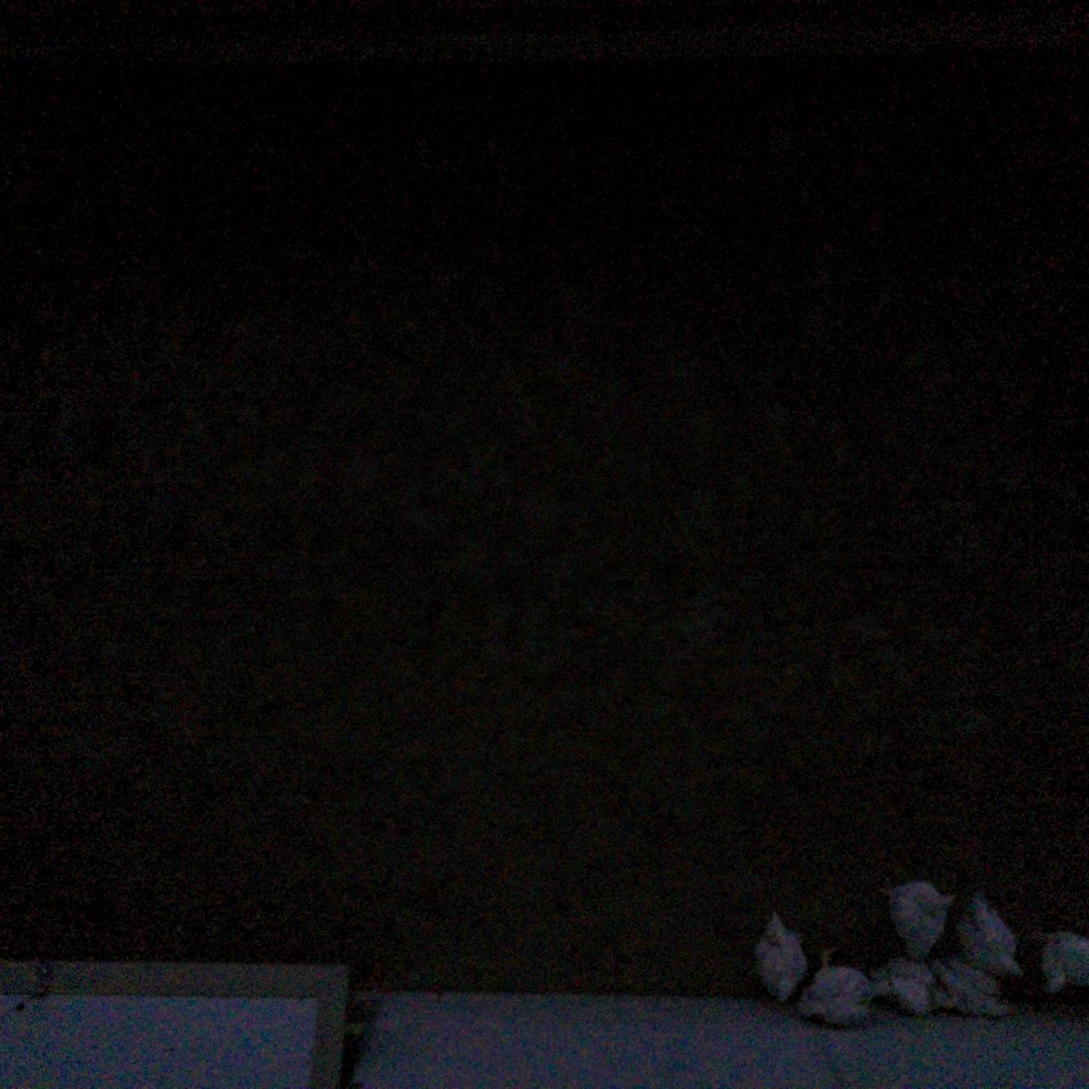chicken: (793, 946, 895, 1033), (948, 885, 1030, 986), (880, 874, 962, 968), (869, 950, 960, 1026), (750, 905, 815, 1009), (924, 957, 1020, 1024), (1031, 922, 1089, 997)
